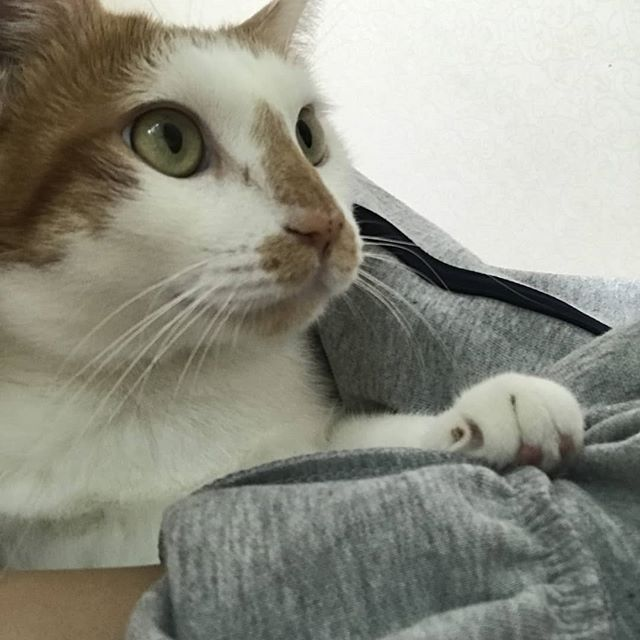cat: (7, 1, 394, 387)
